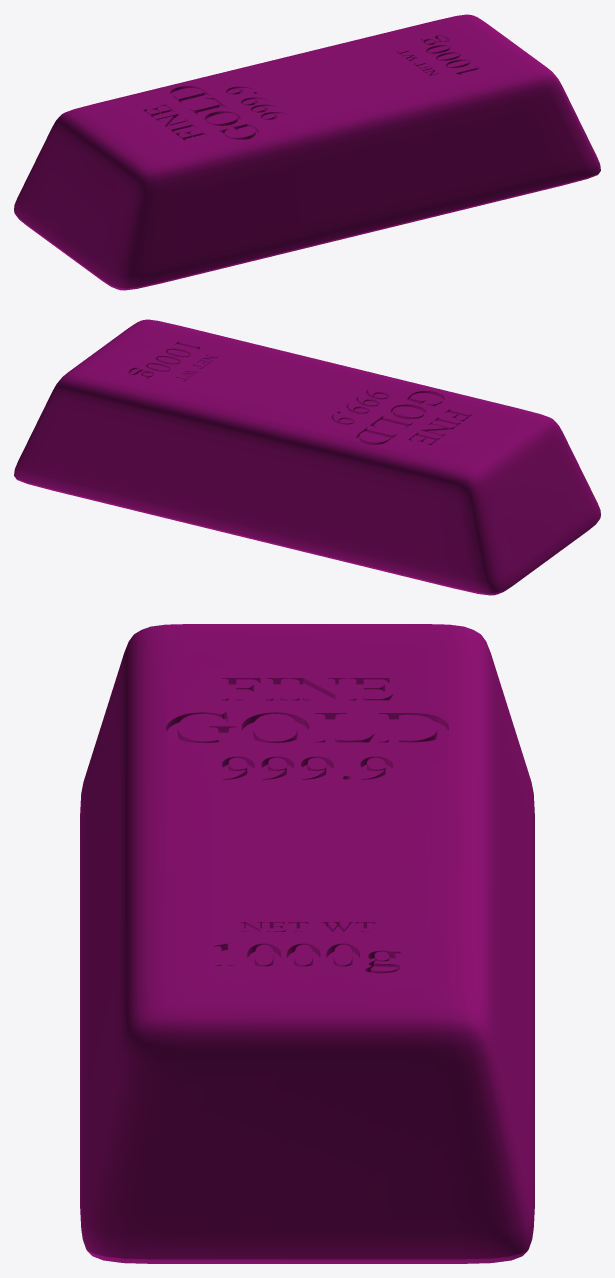
File: emas_lm_100g.obj
The picture shows the model from 3 angles, top to bottom: view 1: azimuth 30°, elevation 25°; view 2: azimuth 150°, elevation 25°; view 3: azimuth 270°, elevation 25°; orthographic projection. The views are drawn at different scales.
Visible parts, largest first — view 1: Box012; view 2: Box012; view 3: Box012.
Part boxes in pixels (x1,y1,x2,y2): Box012: (14, 14, 600, 290); Box012: (14, 319, 600, 595); Box012: (80, 624, 534, 1263).
Bounding box in the file's own units: 50.82 × 10.67 × 20.49.
